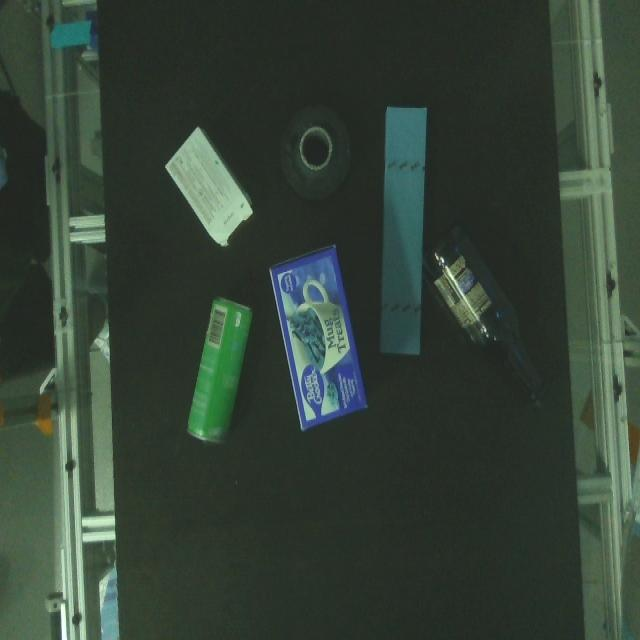non-paper: (430, 223, 545, 403), (180, 293, 254, 447), (274, 97, 358, 208)
paper: (260, 239, 372, 439), (372, 98, 431, 364), (161, 123, 259, 250)
